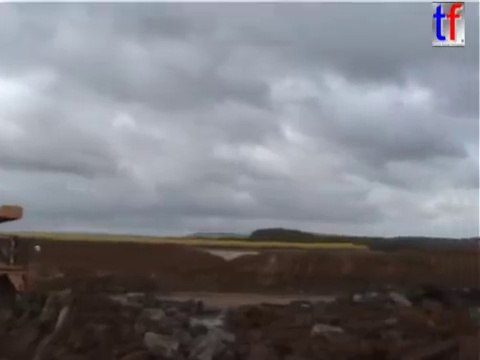truck: (1, 201, 43, 325)
